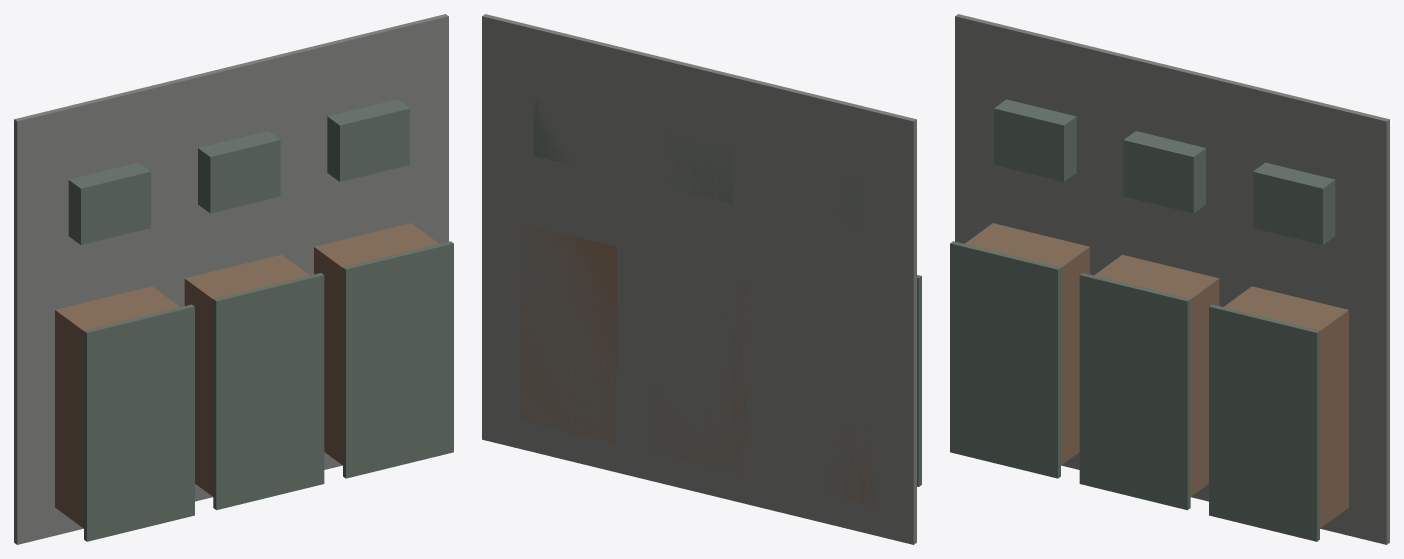
File: shape_093_SVN_Supply_Dump.glb
The picture shows the model from 3 angles, left to right: view 1: azimuth 30°, elevation 25°; view 2: azimuth 150°, elevation 25°; view 3: azimuth 330°, elevation 25°; orthographic projection.
Visible parts, largest first — view 1: Depot yard, Warehouse roof.001, Warehouse roof.002, Warehouse roof, Warehouse, Warehouse.001, Warehouse.002, Stores.001, Stores, Stores.002; view 2: Depot yard, Warehouse.002, Warehouse.001, Stores.001, Warehouse, Stores.002, Warehouse roof, Stores; view 3: Depot yard, Warehouse roof.001, Warehouse roof, Warehouse roof.002, Warehouse.002, Warehouse.001, Warehouse, Stores.001, Stores, Stores.002.
Part boxes in pixels (x1,y1,x2,y2): Depot yard: (14,14,448,544); Warehouse roof.001: (213,273,324,510); Warehouse roof.002: (343,241,453,478); Warehouse roof: (84,304,194,541); Warehouse: (55,286,179,528); Warehouse.001: (184,254,309,496); Warehouse.002: (314,223,438,465); Stores.001: (198,131,280,213); Stores: (68,162,150,244); Stores.002: (327,99,409,181); Depot yard: (482,14,916,544); Warehouse.002: (520,223,616,443); Warehouse.001: (649,270,746,475); Stores.001: (663,132,732,204); Warehouse: (780,299,875,507); Stores.002: (533,100,597,166); Warehouse roof: (917,275,921,486); Stores: (796,168,861,235); Depot yard: (955,14,1389,544); Warehouse roof.001: (1079,273,1190,510); Warehouse roof: (950,241,1060,478); Warehouse roof.002: (1209,304,1319,541); Warehouse.002: (1224,286,1348,528); Warehouse.001: (1094,254,1219,496); Warehouse: (965,223,1089,465); Stores.001: (1123,131,1205,213); Stores: (994,99,1076,181); Stores.002: (1253,162,1335,244).
Bounding box in the file's own units: 384 × 360 × 62.4.
